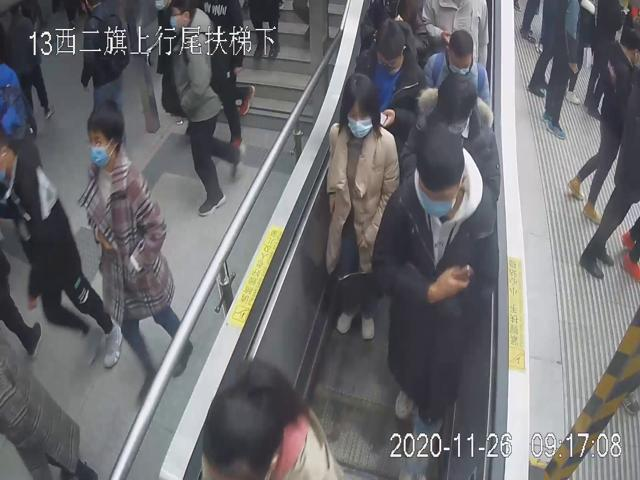person: (369, 128, 500, 455), (77, 94, 195, 408), (323, 71, 401, 344), (398, 70, 501, 204), (349, 16, 425, 129), (422, 30, 491, 116)
